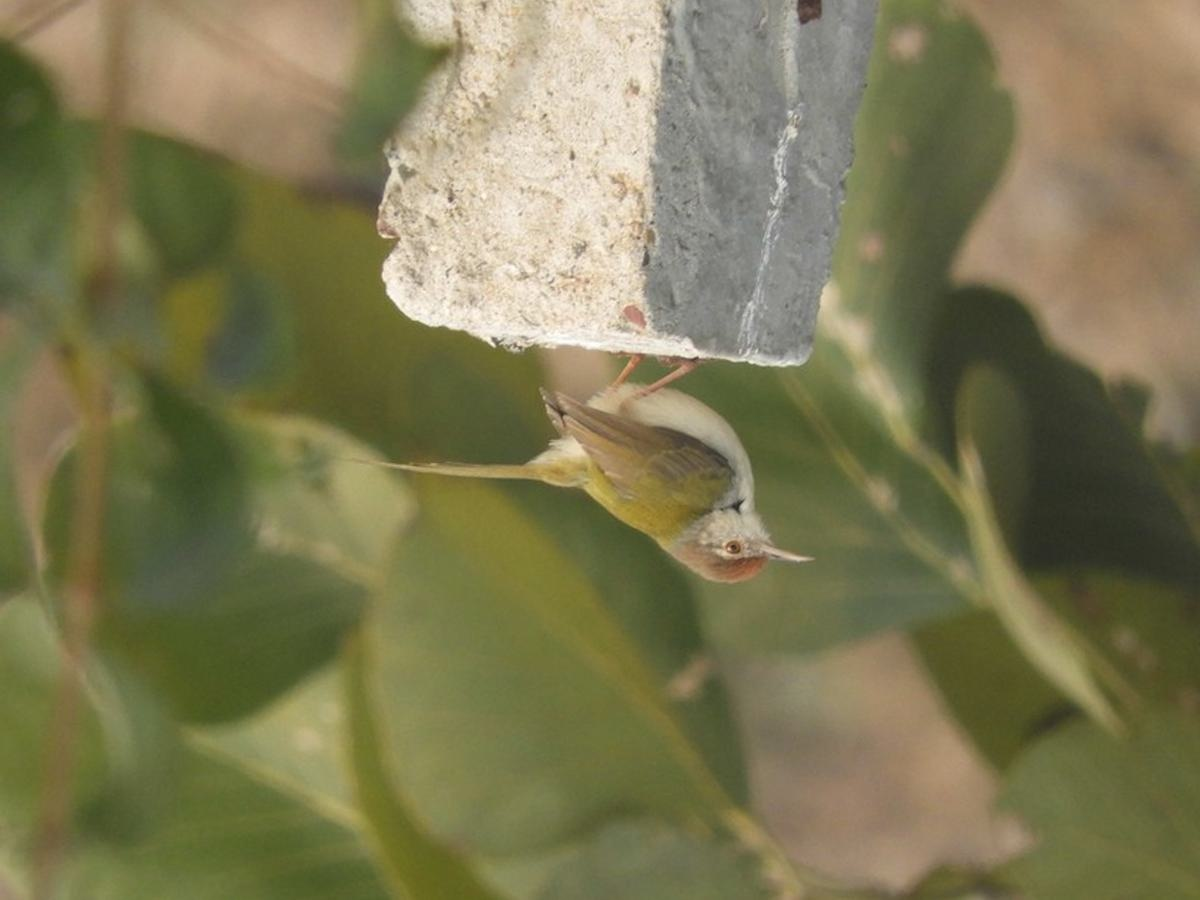tailorbird: (368, 344, 830, 597)
